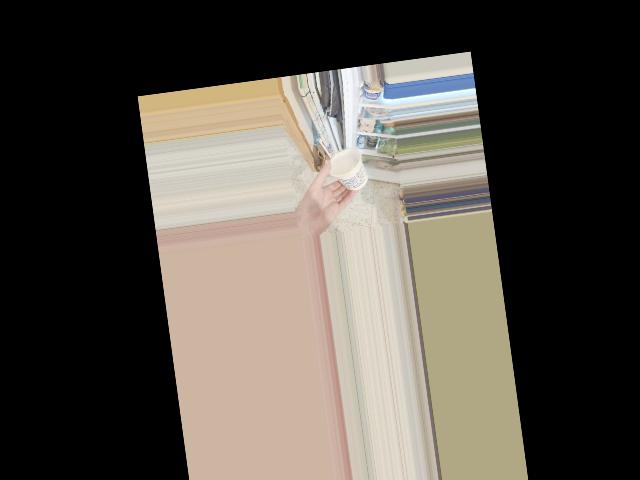cotage: (328, 146, 366, 195)
